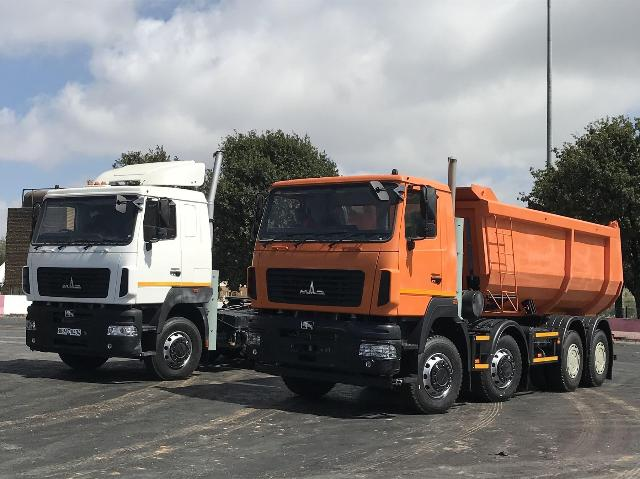truck: (254, 174, 635, 412)
